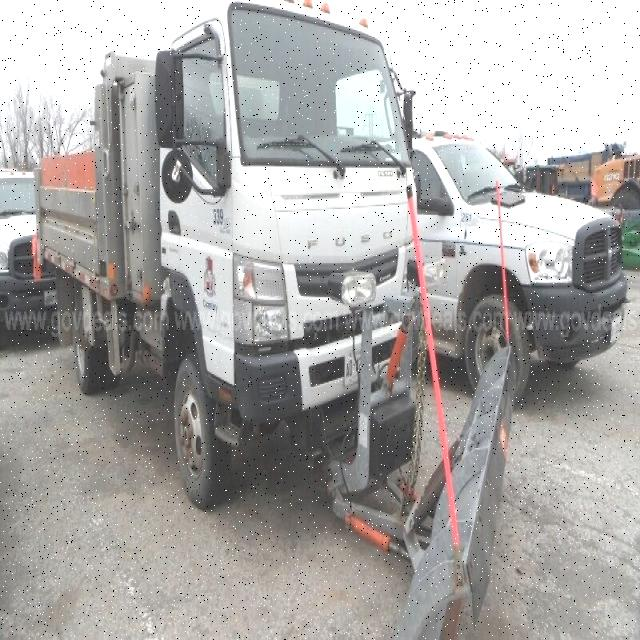truck: (35, 0, 422, 511)
